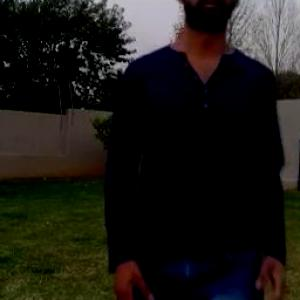follow: (126, 0, 258, 299)
